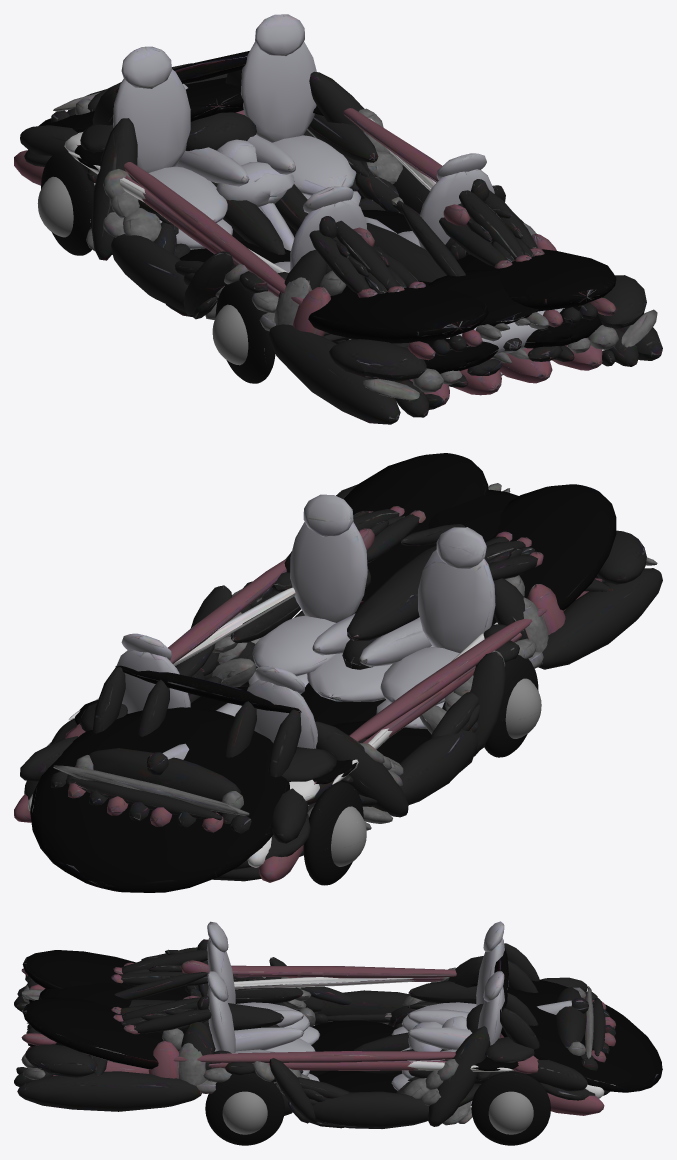
File: ZBR-BLCKK-v6.glb
3 renders of one model, top to bottom at view 1: azimuth 30°, elevation 25°; view 2: azimuth 150°, elevation 25°; view 3: azimuth 270°, elevation 25°, orthographic. The views are drawn at different scales.
Visible parts, largest first — view 1: ZBR-BLCK, Merged Objects 15; view 2: ZBR-BLCK, Merged Objects 15; view 3: ZBR-BLCK, Merged Objects 15.
Part boxes in pixels (<box>): ZBR-BLCK: <box>14,14,662,424</box>; Merged Objects 15: <box>37,129,316,383</box>; ZBR-BLCK: <box>14,453,662,892</box>; Merged Objects 15: <box>47,638,541,885</box>; ZBR-BLCK: <box>14,921,662,1128</box>; Merged Objects 15: <box>205,998,550,1145</box>.
Bounding box in the file's own units: 1.92 × 1.11 × 4.43.
Materials: 2 (2 with a texture image).
